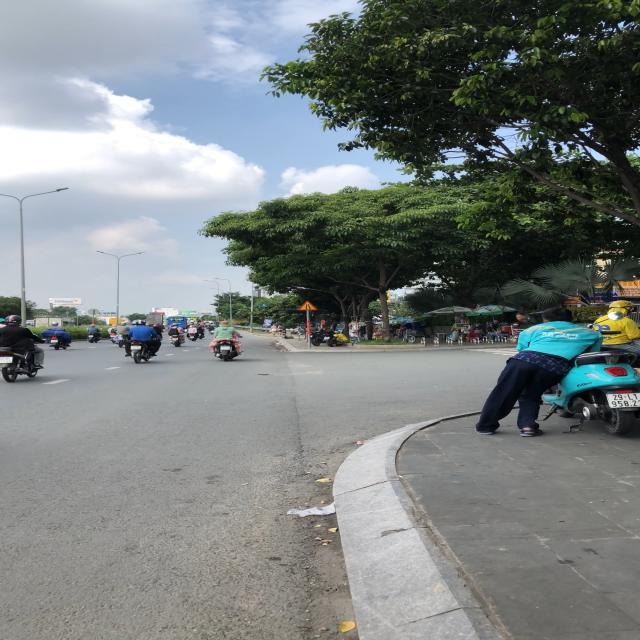Bien bao duong bi thu hep: (297, 301, 318, 311)
